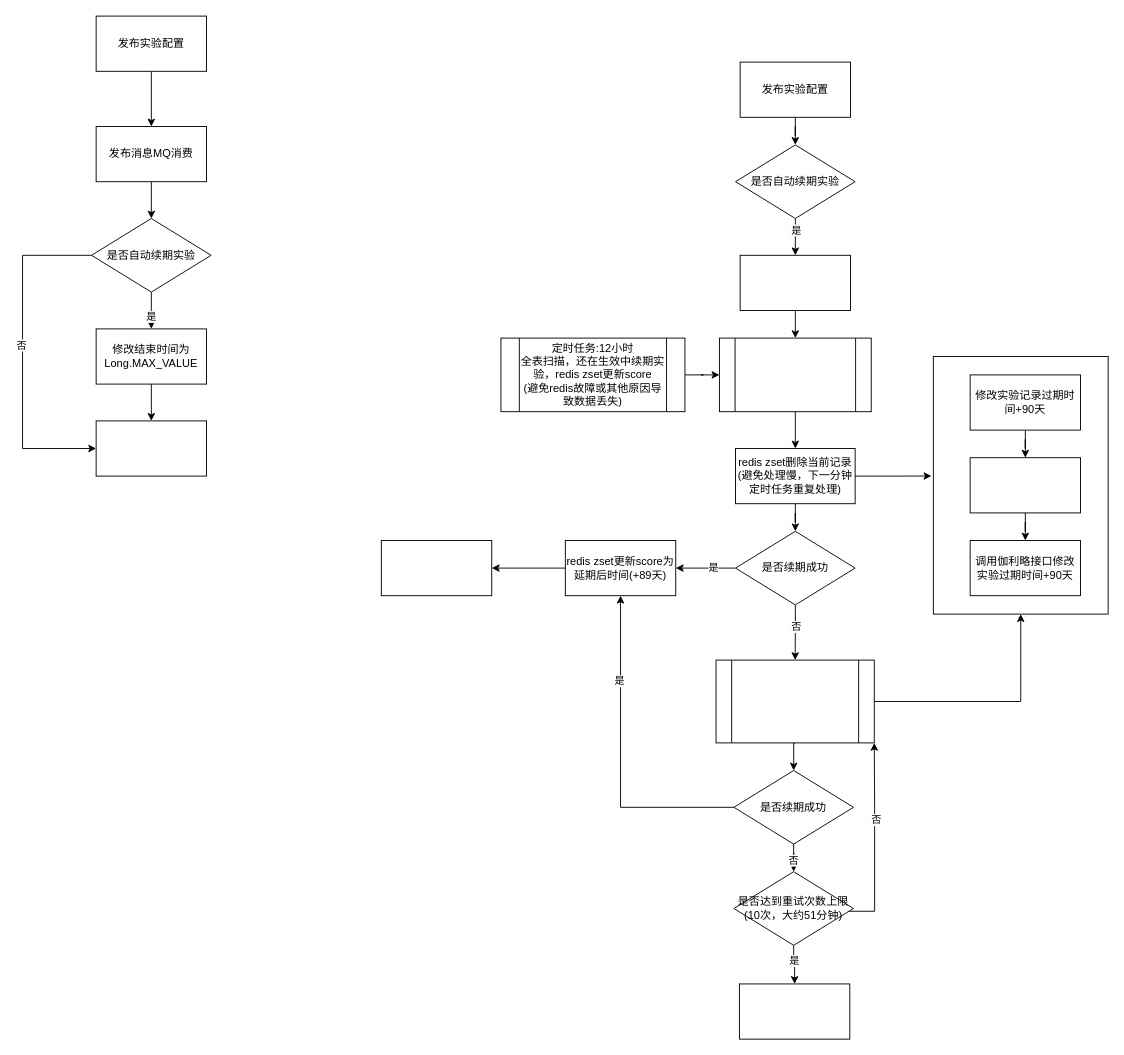
This 1124x1055 diagram has some shape labels left out. The centre of each missing label's shape, as x and y in pixels:
"redis zset添加延迟任务，score为是实验过期时间前24小时" goes at (795,282).
"发送tt提醒续期成功" goes at (436,568).
"同步策略/云控服务" goes at (151,448).
"定时任务:1分钟 redfs分布式加锁，扫描续期实验" goes at (795,374).
"异步重试 重试策略遵循指数退避规则(初始间隔3s，系数为2)" goes at (794,701).
"打印重试续期失败日志，订阅日志告警，告警级别为严重" goes at (794,1011).
"生成免发布实验版本数据" goes at (1025,485).
